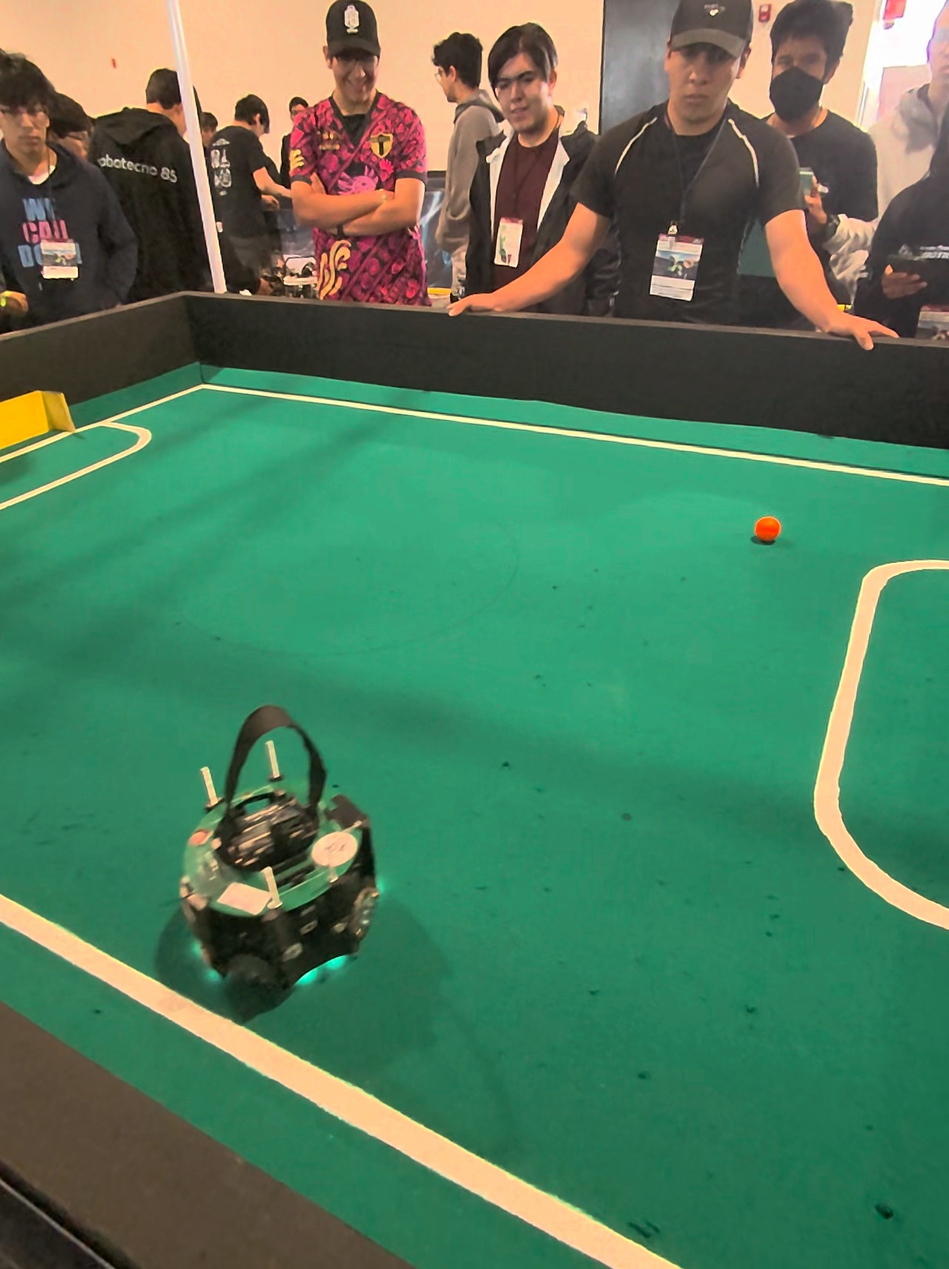Robot: (186, 686, 413, 1018)
pelota: (749, 508, 785, 547)
